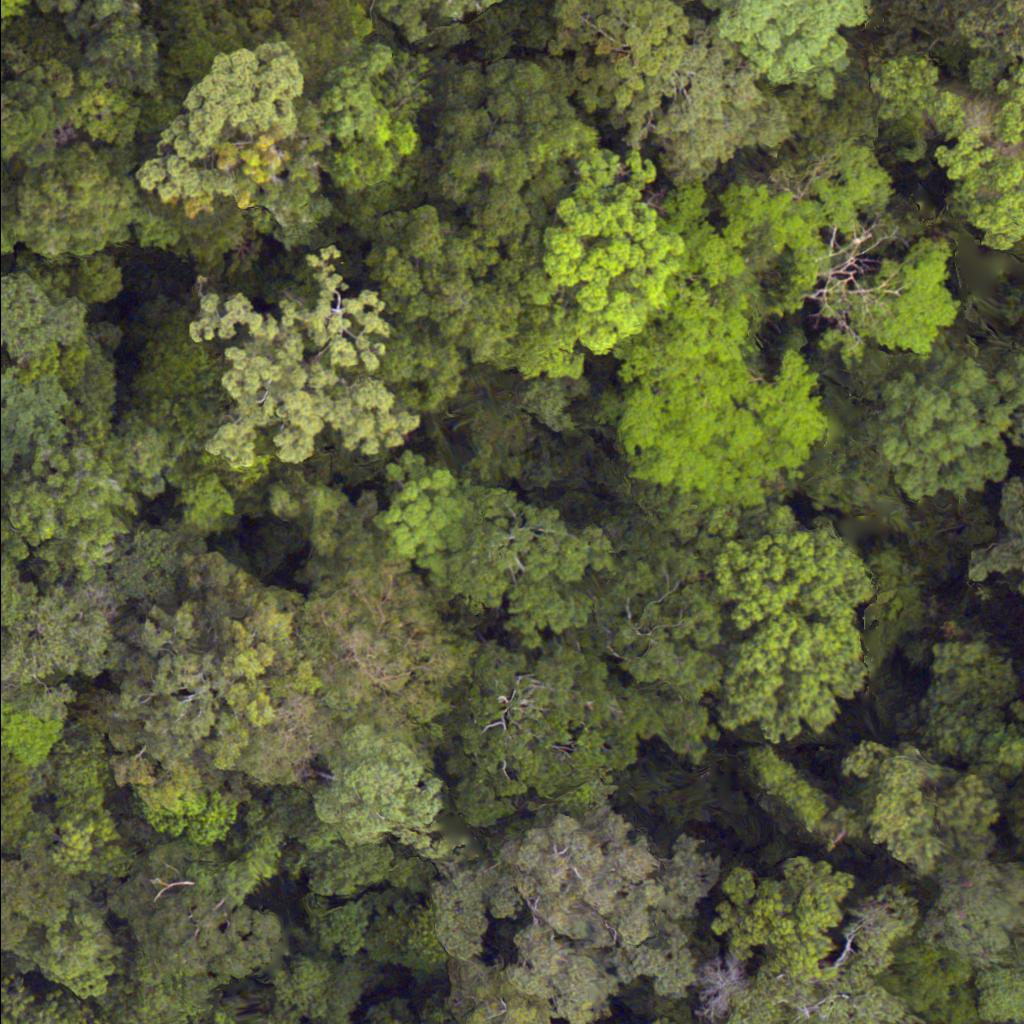crown: (181, 257, 405, 483), (618, 291, 828, 517), (90, 568, 301, 762), (456, 649, 661, 829), (713, 527, 870, 754), (543, 148, 686, 354), (293, 558, 467, 727), (140, 42, 306, 213), (447, 488, 615, 650), (869, 338, 1023, 508), (0, 550, 119, 724), (712, 856, 855, 979), (14, 131, 144, 264), (931, 64, 1023, 251), (706, 0, 869, 96), (845, 740, 948, 877), (318, 730, 433, 852), (379, 450, 477, 588), (916, 860, 1023, 970), (963, 479, 1023, 596), (432, 968, 551, 1023), (0, 32, 40, 175), (0, 979, 109, 1023), (959, 0, 1023, 57), (976, 968, 1023, 1023), (0, 743, 21, 856), (1016, 418, 1023, 448), (651, 1019, 672, 1023)
